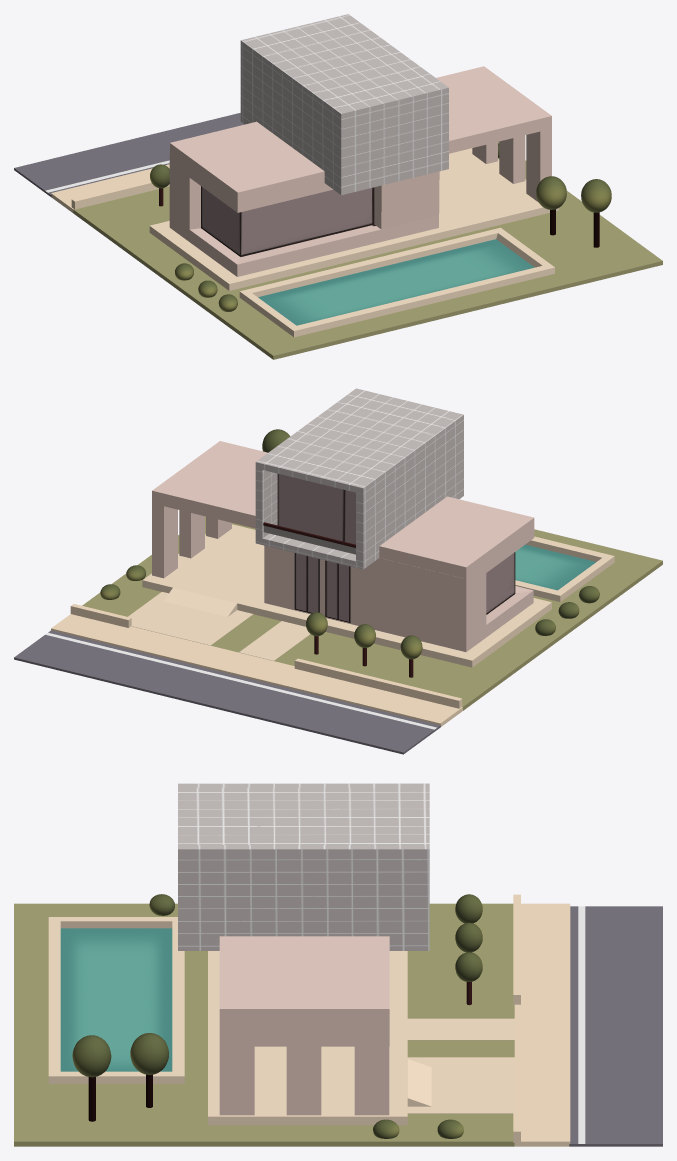
Rendered from Sketch fab house model.fbx.
3 renders of one model, top to bottom at view 1: azimuth 30°, elevation 25°; view 2: azimuth 150°, elevation 25°; view 3: azimuth 270°, elevation 25°, orthographic. The views are drawn at different scales.
Parts seen in each view (by area): view 1: pCube21, polySurface29, polySurface15, polySurface48, polySurface47, pPlane1, polySurface39, polySurface51, polySurface50, polySurface46, polySurface11, polySurface45; view 2: polySurface15, pCube21, polySurface29, polySurface39, polySurface46, polySurface47, polySurface48, pPlane1, polySurface49, pPlane2, polySurface50, polySurface14; view 3: polySurface29, polySurface15, pCube21, polySurface39, polySurface47, pPlane1, polySurface51, polySurface49, polySurface50, pPlane2, polySurface48, polySurface11 (+4 smaller).
Part boxes in pixels (<box>): pCube21: <box>240,14,448,195</box>; polySurface29: <box>73,141,662,359</box>; polySurface15: <box>51,148,558,337</box>; polySurface48: <box>184,166,439,276</box>; polySurface47: <box>170,66,551,204</box>; pPlane1: <box>258,239,534,325</box>; polySurface39: <box>14,113,244,197</box>; polySurface51: <box>526,128,551,202</box>; polySurface50: <box>499,135,525,183</box>; polySurface46: <box>169,155,183,237</box>; polySurface11: <box>581,179,611,212</box>; polySurface45: <box>536,176,566,209</box>; polySurface15: <box>51,524,614,726</box>; pCube21: <box>255,388,463,569</box>; polySurface29: <box>82,516,662,710</box>; polySurface39: <box>14,630,440,754</box>; polySurface46: <box>264,545,480,651</box>; polySurface47: <box>152,441,534,578</box>; polySurface48: <box>480,530,534,641</box>; pPlane1: <box>515,544,595,590</box>; polySurface49: <box>152,503,177,578</box>; pPlane2: <box>45,632,436,729</box>; polySurface50: <box>179,510,204,558</box>; polySurface14: <box>263,525,355,554</box>; polySurface29: <box>14,903,514,1146</box>; polySurface15: <box>48,894,570,1146</box>; pCube21: <box>178,783,429,950</box>; polySurface39: <box>569,906,662,1146</box>; polySurface47: <box>219,936,389,1024</box>; pPlane1: <box>60,928,172,1071</box>; polySurface51: <box>219,1025,254,1115</box>; polySurface49: <box>354,1025,389,1115</box>; polySurface50: <box>286,1025,321,1115</box>; pPlane2: <box>578,906,585,1143</box>; polySurface48: <box>254,1025,354,1046</box>; polySurface11: <box>72,1035,111,1077</box>.
Bounding box in the file's own units: 4721 × 1916 × 5447.
17 materials, 8 textured.
